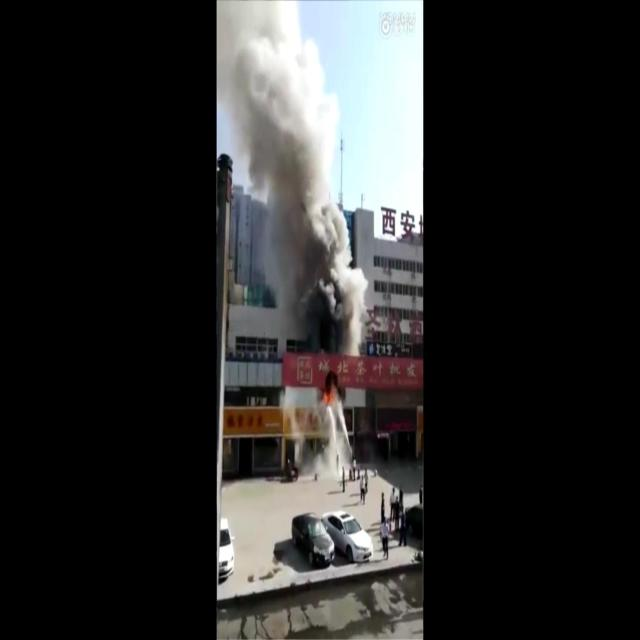fire: (321, 388, 334, 406)
smoke: (216, 0, 366, 354)
